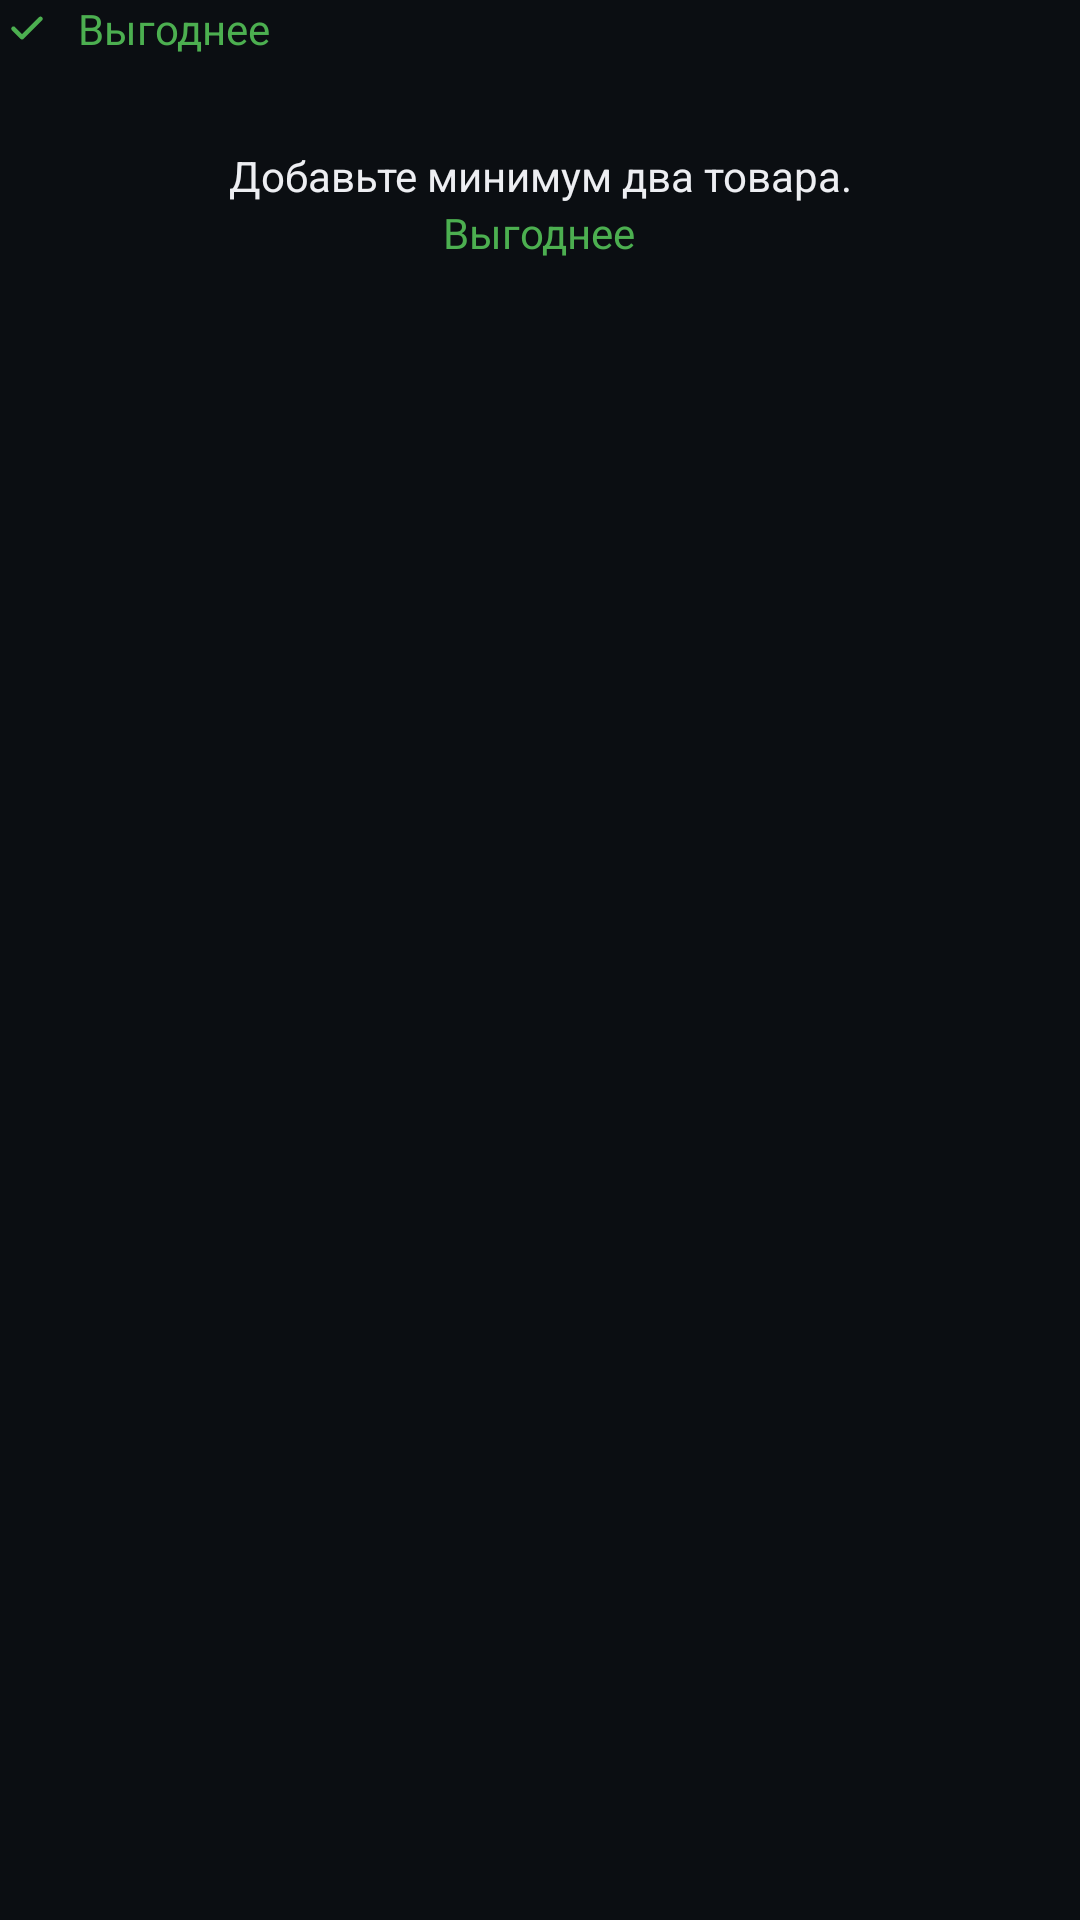

Screen size 1080 × 1920. Icon name, then its box in pixels as (x1, y1, x2, y2):
check: (11, 16, 43, 40)
